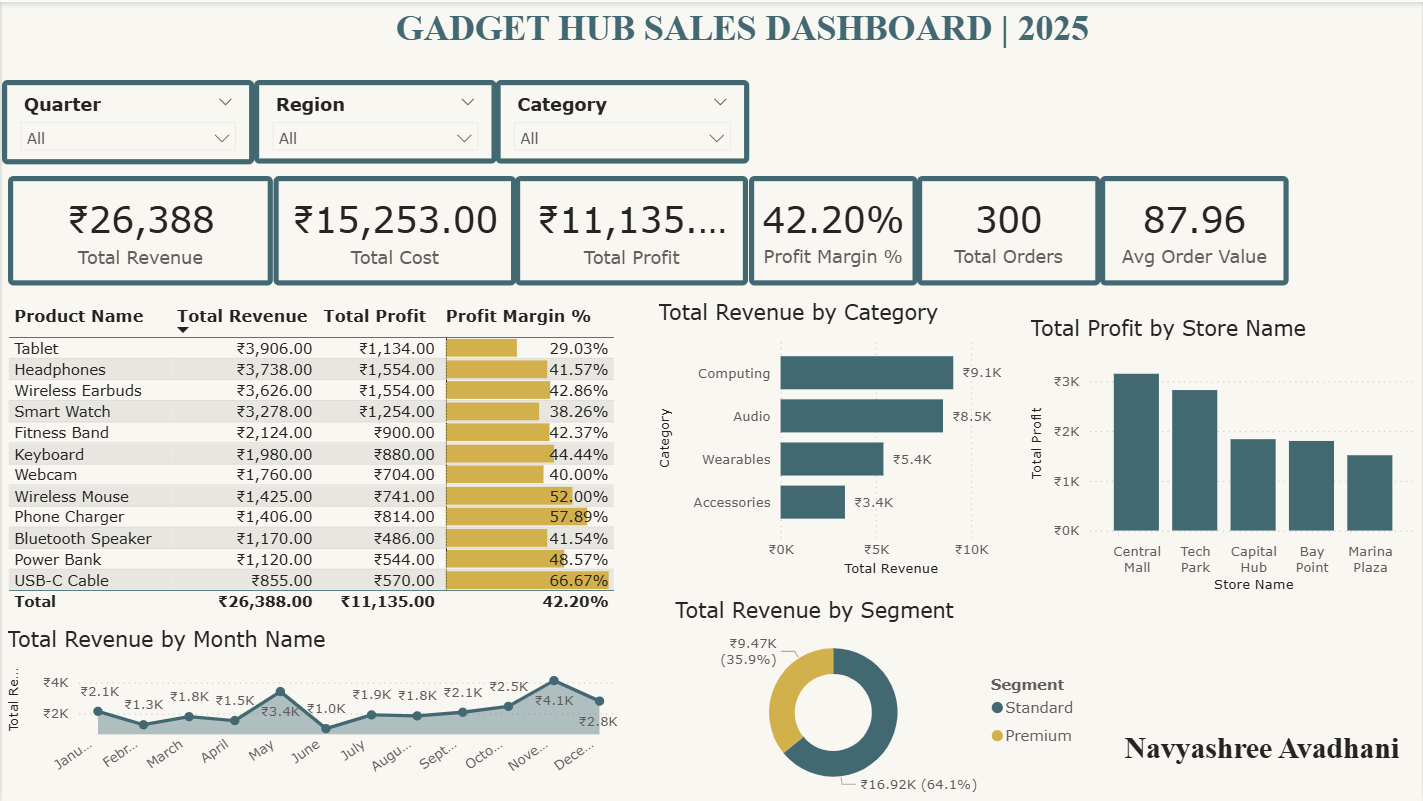

The page's visual inventory and layout, read from the dashboard file:
{"tool":"powerbi","page":{"name":"Page 1","canvas":[1280,720],"ordinal":0},"visuals":[{"type":"card","fields":{"Values":["Calendar.Total Revenue"]},"box":[5.7,157.1,238.6,98.6],"z":0},{"type":"card","fields":{"Values":["Calendar.Total Cost"]},"box":[244.3,157.1,218.6,98.6],"z":1000},{"type":"card","fields":{"Values":["Calendar.Total Profit"]},"box":[462.9,157.1,210,98.6],"z":2000},{"type":"card","fields":{"Values":["Calendar.Profit Margin %"]},"box":[673.3,156.7,151.7,98.3],"z":3000},{"type":"card","fields":{"Values":["Calendar.Total Orders"]},"box":[825,156.7,165,98.3],"z":4000},{"type":"card","fields":{"Values":["Calendar.Avg Order Value"]},"box":[990,156.7,170,98.3],"z":5000},{"type":"lineChart","fields":{"Category":["Calendar.MonthName"],"Y":["Calendar.Total Revenue"]},"box":[0,562.3,559.6,143.3],"z":6000},{"type":"clusteredBarChart","fields":{"Category":["Products.Category"],"Y":["Calendar.Total Revenue"]},"box":[586.6,267.6,335.2,254.1],"z":7000},{"type":"columnChart","fields":{"Category":["Stores.StoreName"],"Y":["Calendar.Total Profit"]},"box":[921.9,282.5,358.2,254.1],"z":8000},{"type":"donutChart","fields":{"Category":["Customers.Segment"],"Y":["Calendar.Total Revenue"]},"box":[601.5,536.6,378.5,183.8],"z":9000},{"type":"tableEx","fields":{"Values":["Products.ProductName","Calendar.Total Revenue","Calendar.Total Profit","Calendar.Profit Margin %"]},"box":[0,267.6,567.7,294.7],"z":10000},{"type":"slicer","fields":{"Values":["Calendar.Quarter"]},"box":[0,69.7,227.1,75.7],"z":11000},{"type":"slicer","fields":{"Values":["Stores.Region"]},"box":[226.7,70,218.3,75],"z":12000},{"type":"slicer","fields":{"Values":["Products.Category"]},"box":[445,70,228.3,75],"z":13000},{"type":"textbox","box":[344.7,0,644.8,54.1],"z":14000},{"type":"textbox","box":[989.5,651.5,274.4,44.6],"z":15000}]}

Visuals, with their boxes in screenshot pixels (x1, y1, x2, y2), scaled from the page's 1280x720 canvas onto the 1423x801 screenshot:
card - Calendar.Total Revenue: [x1=6, y1=175, x2=272, y2=284]
card - Calendar.Total Cost: [x1=272, y1=175, x2=515, y2=284]
card - Calendar.Total Profit: [x1=515, y1=175, x2=748, y2=284]
card - Calendar.Profit Margin %: [x1=749, y1=174, x2=917, y2=284]
card - Calendar.Total Orders: [x1=917, y1=174, x2=1101, y2=284]
card - Calendar.Avg Order Value: [x1=1101, y1=174, x2=1290, y2=284]
lineChart - Calendar.MonthName x Calendar.Total Revenue: [x1=0, y1=626, x2=622, y2=785]
clusteredBarChart - Products.Category x Calendar.Total Revenue: [x1=652, y1=298, x2=1025, y2=580]
columnChart - Stores.StoreName x Calendar.Total Profit: [x1=1025, y1=314, x2=1422, y2=597]
donutChart - Customers.Segment x Calendar.Total Revenue: [x1=669, y1=597, x2=1089, y2=800]
tableEx - Products.ProductName x Calendar.Total Revenue: [x1=0, y1=298, x2=631, y2=626]
slicer - Calendar.Quarter: [x1=0, y1=78, x2=252, y2=162]
slicer - Stores.Region: [x1=252, y1=78, x2=495, y2=161]
slicer - Products.Category: [x1=495, y1=78, x2=749, y2=161]
textbox: [x1=383, y1=0, x2=1100, y2=60]
textbox: [x1=1100, y1=725, x2=1405, y2=774]
